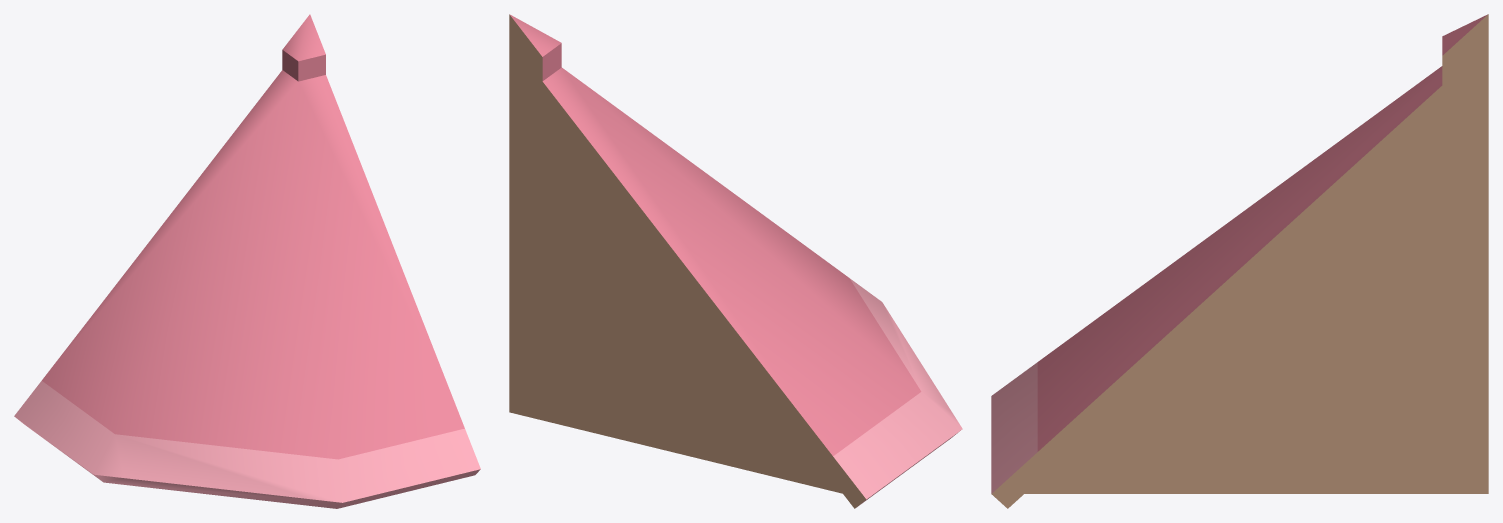
3 renders of one model, left to right at view 1: azimuth 30°, elevation 25°; view 2: azimuth 150°, elevation 25°; view 3: azimuth 270°, elevation 25°, orthographic. The views are drawn at different scales.
Parts seen in each view (by area): view 1: roofHighCornerRound; view 2: roofHighCornerRound; view 3: roofHighCornerRound.
Boxes of the visible parts, box(x1,y1,x2,y2) form: roofHighCornerRound: box(14, 14, 480, 508); roofHighCornerRound: box(509, 14, 962, 508); roofHighCornerRound: box(991, 14, 1488, 508).
Size of the model in its own units: 1.07 by 1.18 by 1.07.
